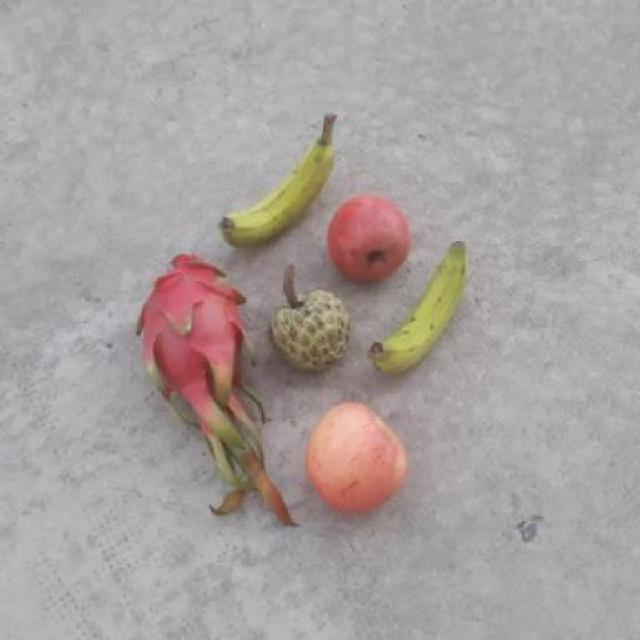apple: (290, 396, 408, 512), (332, 189, 414, 277)
banana: (210, 128, 336, 250), (367, 236, 468, 376)
dragon fruit: (131, 245, 254, 433)
sugar apple: (268, 289, 355, 373)
